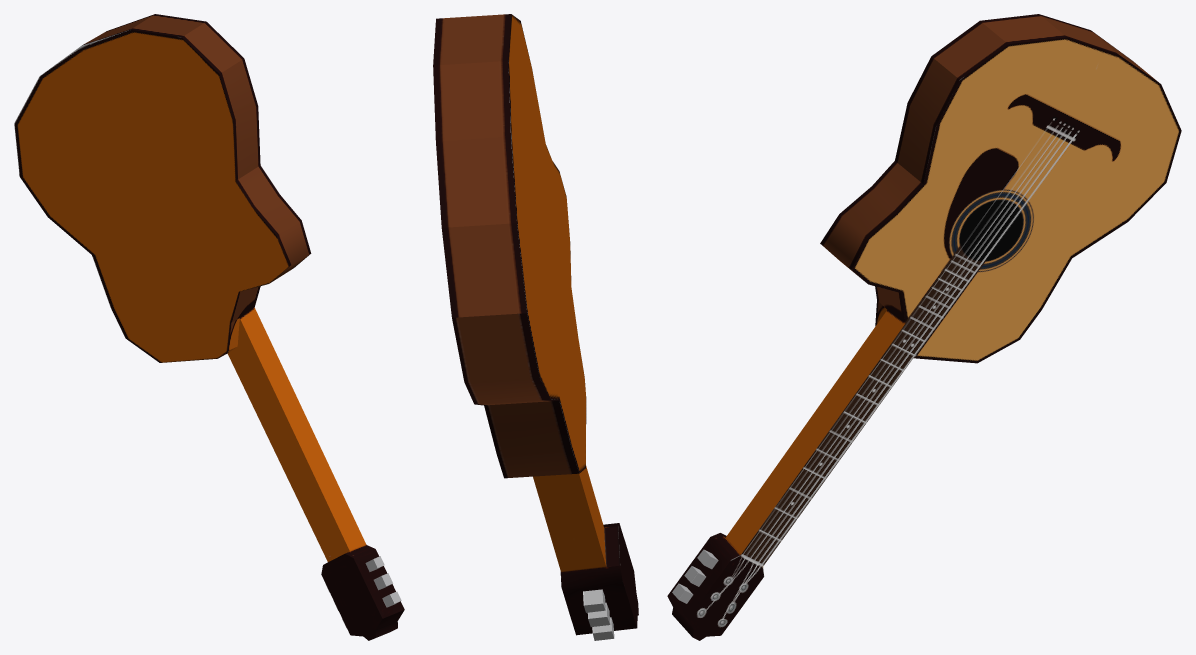
The model's file is Guitarra3_000006.obj.
3 renders of one model, left to right at view 1: azimuth 30°, elevation 25°; view 2: azimuth 150°, elevation 25°; view 3: azimuth 270°, elevation 25°, orthographic. The views are drawn at different scales.
Parts seen in each view (by area): view 1: Guitarra_2:pPlane4; view 2: Guitarra_2:pPlane4; view 3: Guitarra_2:pPlane4.
Part boxes in pixels (x1,y1,x2,y2): Guitarra_2:pPlane4: [14, 14, 404, 640]; Guitarra_2:pPlane4: [433, 14, 638, 640]; Guitarra_2:pPlane4: [667, 14, 1181, 640].
Size of the model in its own units: 3.96 by 10.87 by 8.8.
